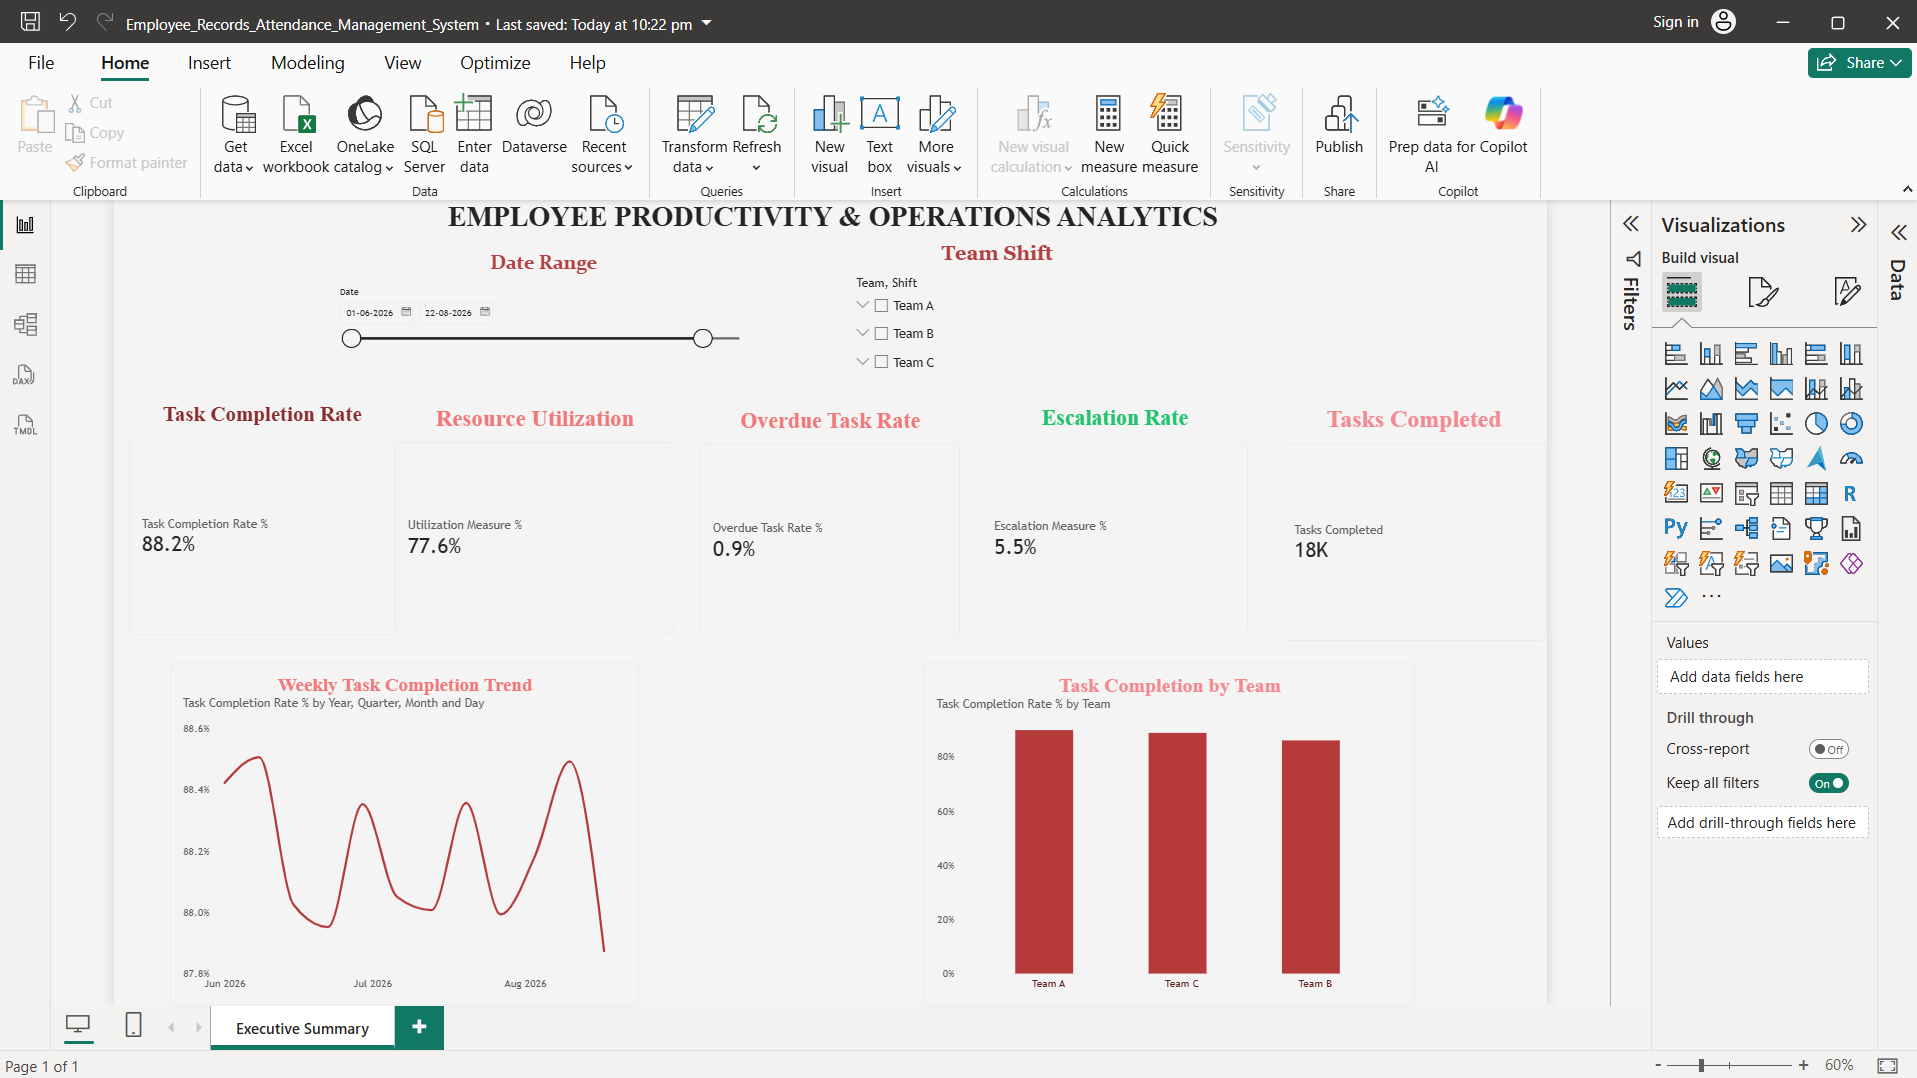

The page's visual inventory and layout, read from the dashboard file:
{"tool":"powerbi","page":{"name":"Executive Summary","canvas":[1920,1080],"ordinal":0},"visuals":[{"type":"cardVisual","title":"Task Completion Rate","fields":{"Data":["Daily Activity.Task Completion Rate %"]},"box":[0,271.7,357.2,311.8],"z":0},{"type":"cardVisual","title":"Resource Utilization","fields":{"Data":["Daily Activity.Utilization Measure %"]},"box":[376.6,275.4,374.6,307.4],"z":1000},{"type":"cardVisual","title":"Overdue Task Rate","fields":{"Data":["Daily Activity.Overdue Task Rate %"]},"box":[785,277.3,348.6,307.4],"z":2000},{"type":"cardVisual","title":"Escalation Rate","fields":{"Data":["Daily Activity.Escalation Measure %"]},"box":[1161.6,275.4,357.8,309.1],"z":3000},{"type":"cardVisual","title":"Tasks Completed","fields":{"Data":["Daily Activity.Tasks Completed"]},"box":[1564.4,275.4,355.1,316.1],"z":4000},{"type":"lineChart","title":"Weekly Task Completion Trend","fields":{"Category":["DateTable.Week Start.Variation.Date Hierarchy.Year","DateTable.Week Start.Variation.Date Hierarchy.Quarter","DateTable.Week Start.Variation.Date Hierarchy.Month","DateTable.Week Start.Variation.Date Hierarchy.Day"],"Y":["Daily Activity.Task Completion Rate %"]},"box":[74.9,620.1,627.6,459],"z":5000},{"type":"clusteredColumnChart","title":"Task Completion by Team","fields":{"Category":["Employees.Team"],"Y":["Daily Activity.Task Completion Rate %"]},"box":[1084.8,620.1,657.6,459],"z":6000},{"type":"textbox","box":[376.6,0,1172.8,67.4],"z":7000},{"type":"slicer","fields":{"Values":["DateTable.Date"]},"box":[297.9,114.3,562.1,136.8],"z":8000},{"type":"slicer","fields":{"Values":["Employees.Team","Employees.Shift"]},"box":[1000.5,86.2,393.4,149.9],"z":9000}]}

Visuals, with their boxes on the page's 1920x1080 design canvas (x1, y1, x2, y2). These are canvas units, not pixel positions in the 1917x1078 screenshot, which may show the page scaled, cropped or inside an application window:
"Task Completion Rate" cardVisual: rect(0, 272, 357, 584)
"Resource Utilization" cardVisual: rect(377, 275, 751, 583)
"Overdue Task Rate" cardVisual: rect(785, 277, 1134, 585)
"Escalation Rate" cardVisual: rect(1162, 275, 1519, 584)
"Tasks Completed" cardVisual: rect(1564, 275, 1920, 592)
"Weekly Task Completion Trend" lineChart: rect(75, 620, 702, 1079)
"Task Completion by Team" clusteredColumnChart: rect(1085, 620, 1742, 1079)
textbox: rect(377, 0, 1549, 67)
slicer - DateTable.Date: rect(298, 114, 860, 251)
slicer - Employees.Team x Employees.Shift: rect(1000, 86, 1394, 236)
